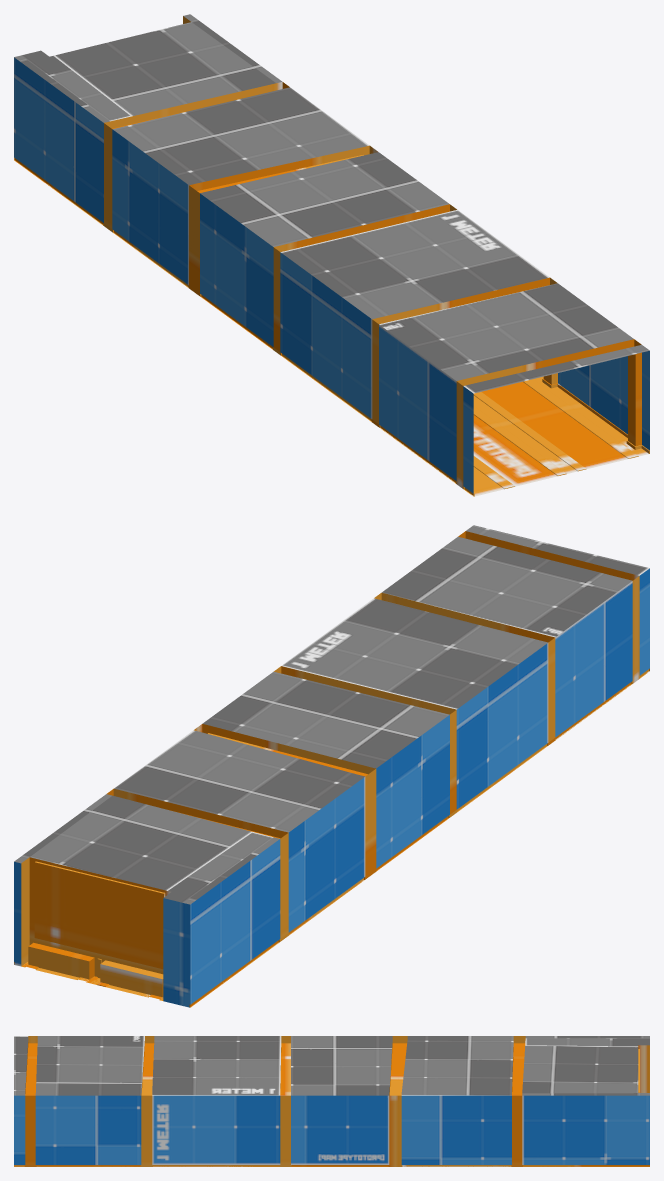
3 renders of one model, top to bottom at view 1: azimuth 30°, elevation 25°; view 2: azimuth 150°, elevation 25°; view 3: azimuth 270°, elevation 25°, orthographic. The views are drawn at different scales.
Parts seen in each view (by area): view 1: BowlingAlley_Ceiling_0, BowlingAlley_wall_plaster_0, BowlingAlley_alley_0; view 2: BowlingAlley_Ceiling_0, BowlingAlley_wall_plaster_0, BowlingAlley_alley_0; view 3: BowlingAlley_wall_plaster_0, BowlingAlley_Ceiling_0, BowlingAlley_alley_0.
Part boxes in pixels (box(x1,y1,x2,y2)): BowlingAlley_Ceiling_0: box(14, 14, 649, 393); BowlingAlley_wall_plaster_0: box(14, 57, 649, 493); BowlingAlley_alley_0: box(14, 16, 649, 496); BowlingAlley_Ceiling_0: box(14, 525, 649, 904); BowlingAlley_wall_plaster_0: box(14, 568, 649, 1007); BowlingAlley_alley_0: box(14, 531, 649, 1007); BowlingAlley_wall_plaster_0: box(14, 1095, 649, 1164); BowlingAlley_Ceiling_0: box(14, 1036, 649, 1095); BowlingAlley_alley_0: box(14, 1036, 649, 1166).
Bounding box in the file's own units: 13.18 × 7.37 × 59.52.
3 materials, 3 textured.
